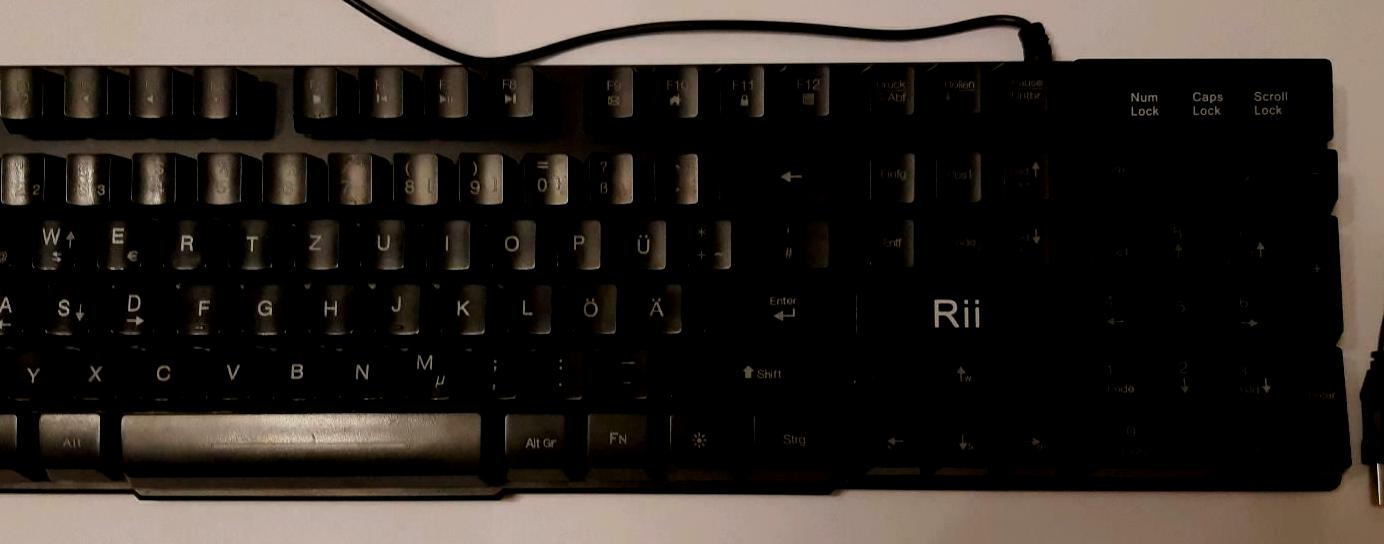0: (519, 146, 569, 203)
1: (1, 149, 24, 203)
2: (1, 147, 45, 203)
3: (60, 146, 112, 203)
4: (127, 145, 177, 203)
5: (193, 145, 241, 202)
6: (259, 146, 307, 203)
7: (323, 145, 372, 203)
8: (388, 146, 438, 204)
9: (454, 146, 504, 203)
a: (1, 276, 26, 332)
accent: (650, 146, 698, 201)
ae: (631, 277, 681, 331)
alt-left: (34, 407, 101, 465)
altgr-right: (500, 407, 567, 464)
b: (267, 339, 319, 397)
c: (135, 341, 186, 397)
caret: (1, 150, 23, 203)
comma: (466, 340, 517, 397)
d: (107, 275, 156, 332)
del: (714, 144, 830, 201)
e: (92, 211, 142, 268)
enter: (698, 277, 829, 333)
f: (173, 277, 222, 333)
g: (237, 277, 287, 332)
h: (303, 277, 352, 332)
hash: (747, 214, 829, 267)
i: (419, 212, 469, 266)
j: (369, 276, 419, 332)
k: (434, 277, 486, 332)
keyboard: (1, 44, 1361, 514)
l: (499, 277, 550, 331)
less: (1, 341, 26, 397)
m: (399, 339, 451, 398)
minus: (598, 340, 648, 396)
n: (333, 339, 386, 397)
o: (484, 213, 535, 267)
oe: (565, 277, 616, 331)
p: (551, 213, 600, 267)
plus: (680, 212, 729, 267)
point: (534, 340, 583, 397)
q: (1, 212, 25, 268)
r: (159, 211, 207, 266)
s: (40, 276, 91, 332)
shift-left: (1, 341, 33, 402)
shift-lock: (1, 279, 49, 334)
shift-right: (668, 344, 832, 398)
space: (115, 405, 482, 474)
ss: (584, 147, 633, 203)
strg-left: (1, 408, 40, 463)
strg-right: (749, 408, 834, 467)
t: (224, 211, 272, 266)
tab: (1, 213, 42, 269)
u: (355, 211, 405, 267)
ue: (616, 212, 665, 268)
v: (203, 341, 253, 396)
w: (27, 211, 76, 267)
x: (70, 341, 119, 397)
y: (4, 341, 53, 398)
z: (288, 211, 337, 266)
